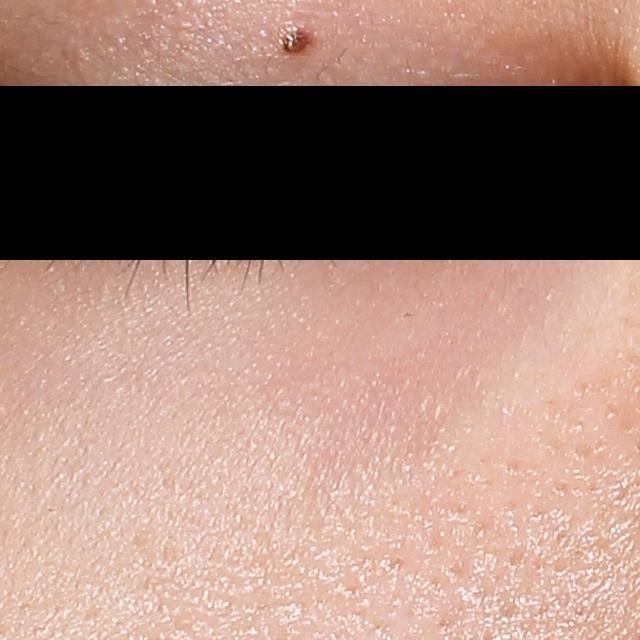nevus: (277, 25, 314, 54)
